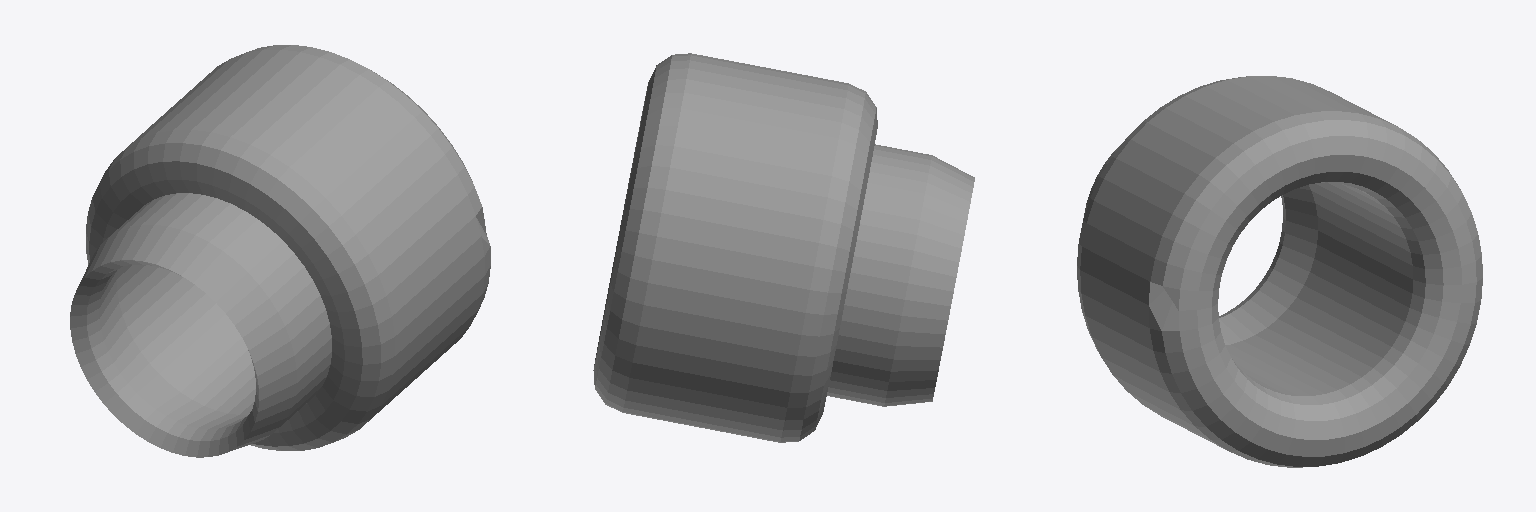
The model's file is upot.obj.
3 views of the same model, side by side, from view 1: azimuth 30°, elevation 25°; view 2: azimuth 150°, elevation 25°; view 3: azimuth 270°, elevation 25° (orthographic).
Parts seen in each view (by area): view 1: Torus; view 2: Torus; view 3: Torus.
Part boxes in pixels (x1,y1,x2,y2): Torus: (70,45,490,457); Torus: (593,53,974,442); Torus: (1077,76,1482,467).
Bounding box in the file's own units: 2.64 × 2.42 × 2.53.